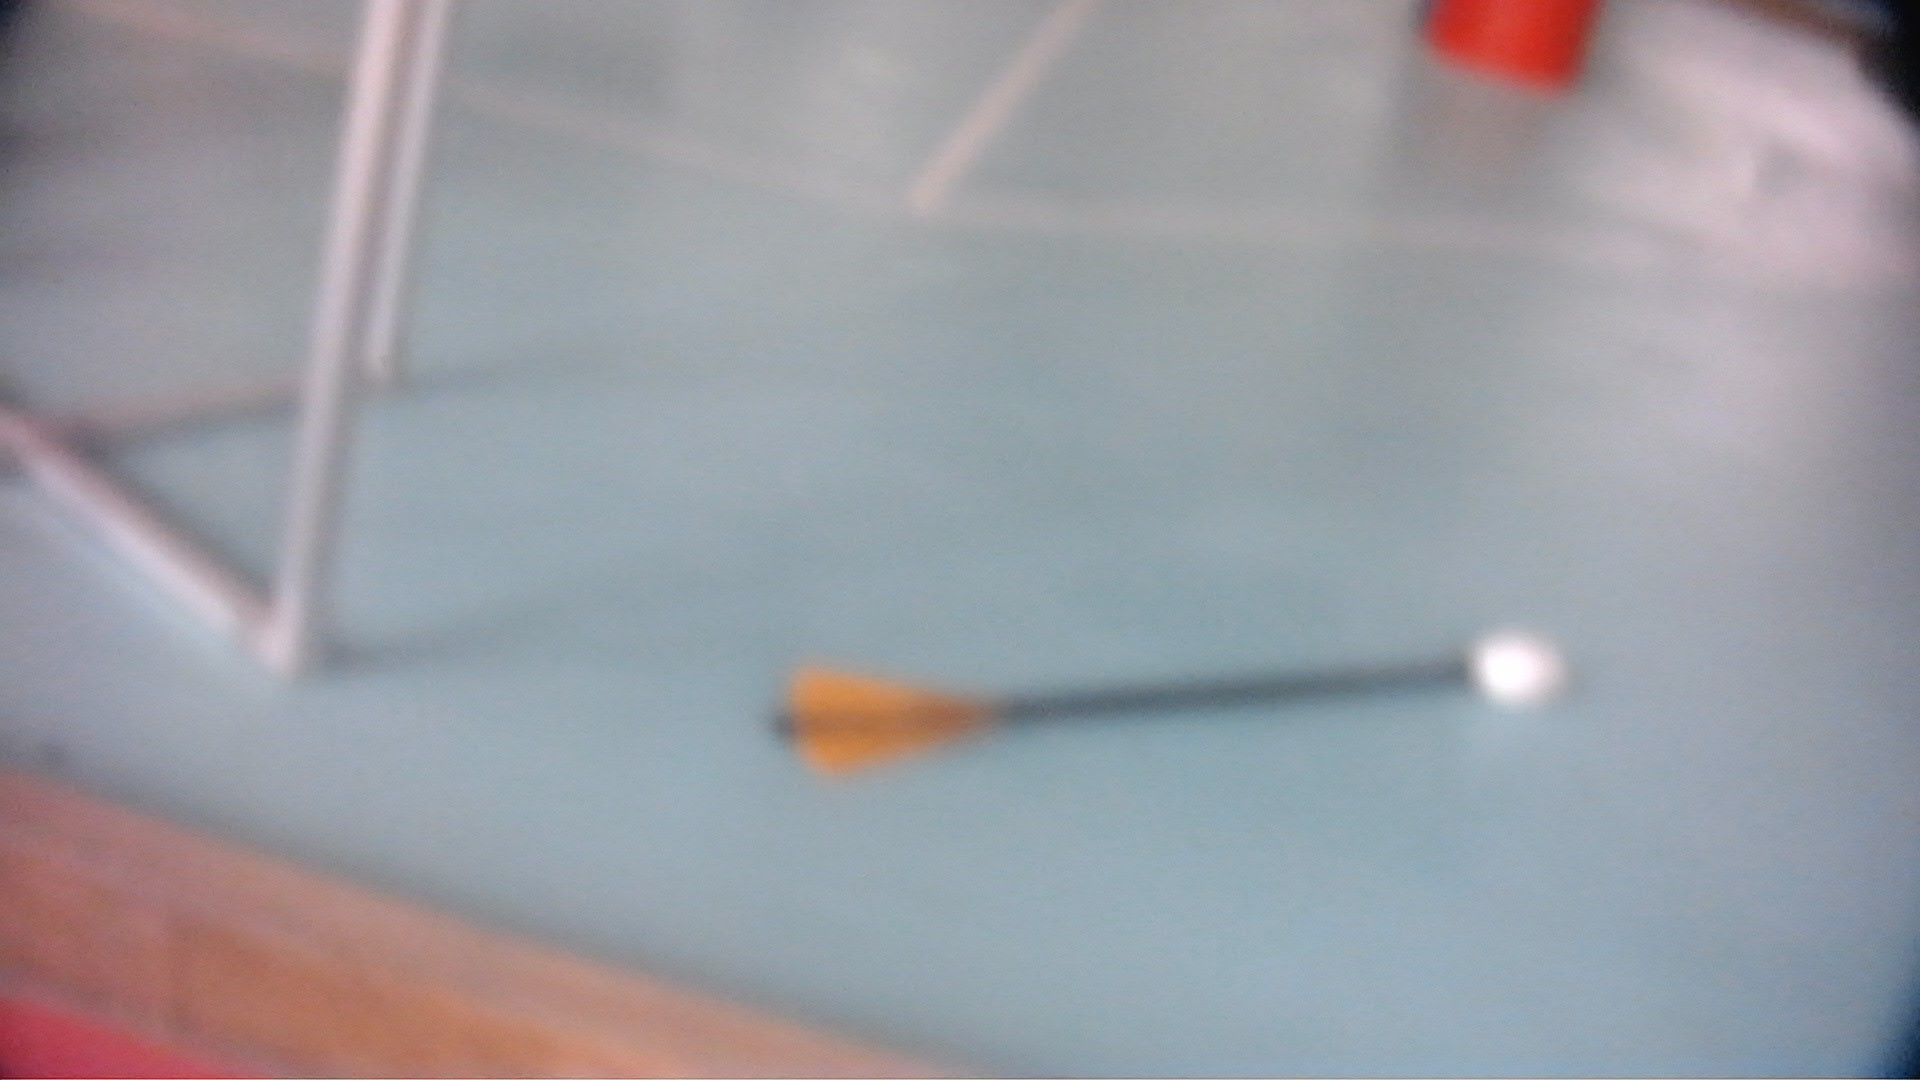arrow: (765, 626, 1571, 778)
arrowFront: (1466, 628, 1571, 711)
